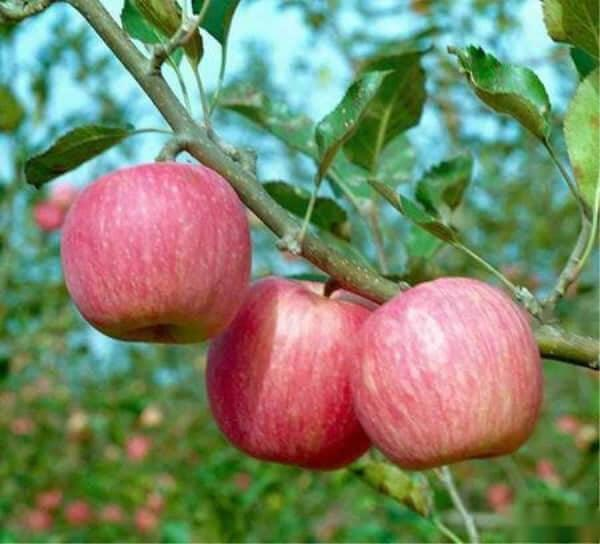apple: (348, 277, 543, 468), (61, 162, 252, 343), (206, 277, 376, 470)
